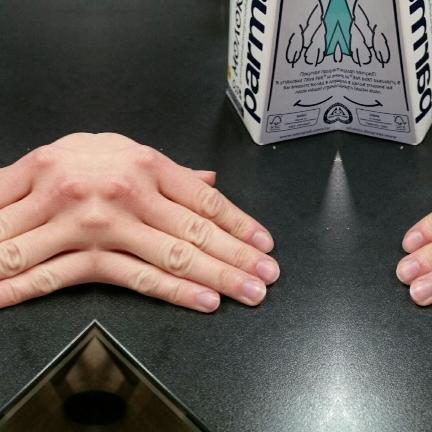Nail: (240, 280, 265, 302), (255, 260, 278, 283), (396, 260, 419, 283), (250, 231, 273, 253), (409, 280, 432, 302), (401, 231, 424, 253), (195, 292, 218, 310), (194, 171, 213, 172)
